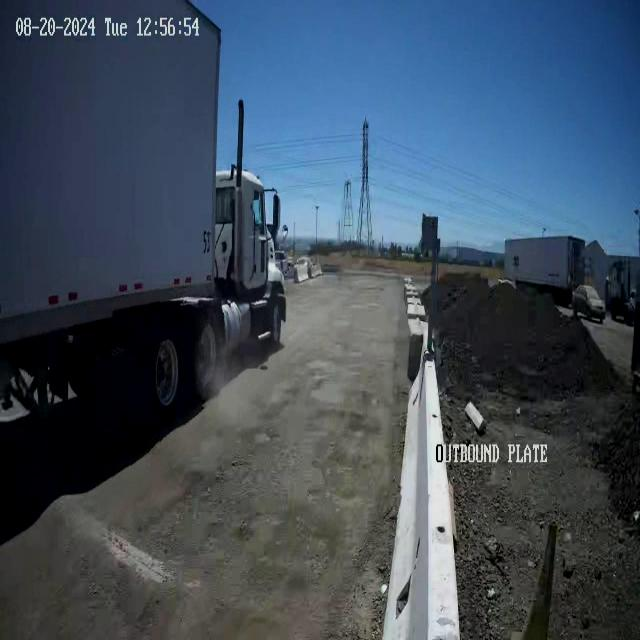TRUCK_CONTAINER: (1, 1, 286, 443)
